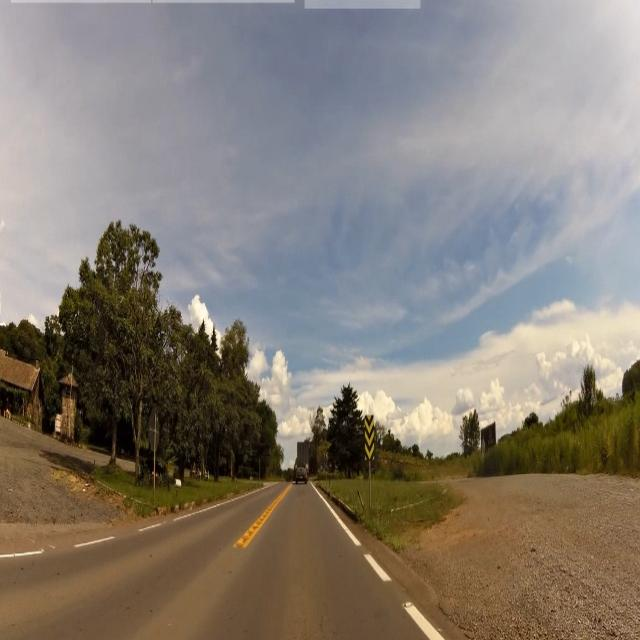MP: (364, 409, 376, 459)
